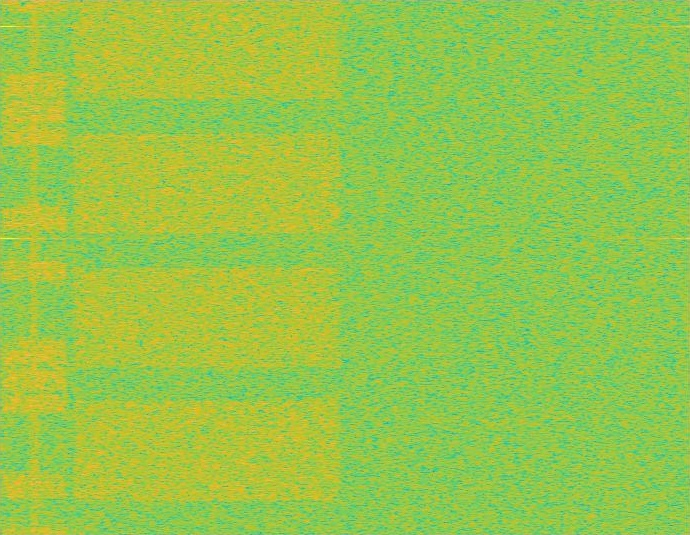5G: (69, 0, 345, 534)
DSSS: (30, 0, 39, 534)
LTE: (0, 0, 69, 534)
Radar: (1, 0, 15, 534)
